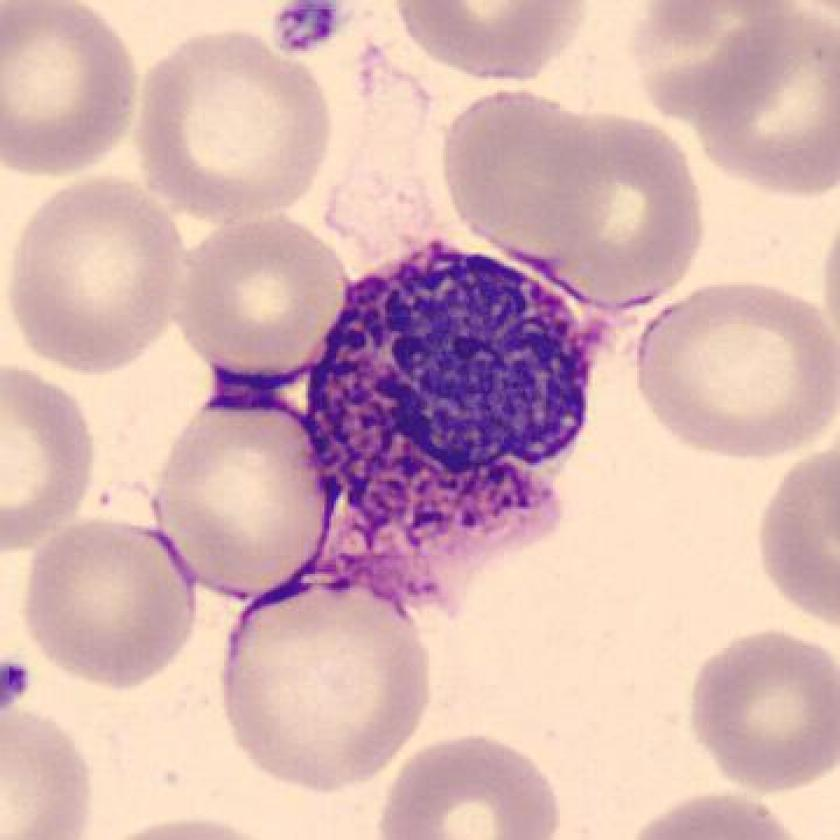basophil: (304, 233, 601, 573)
